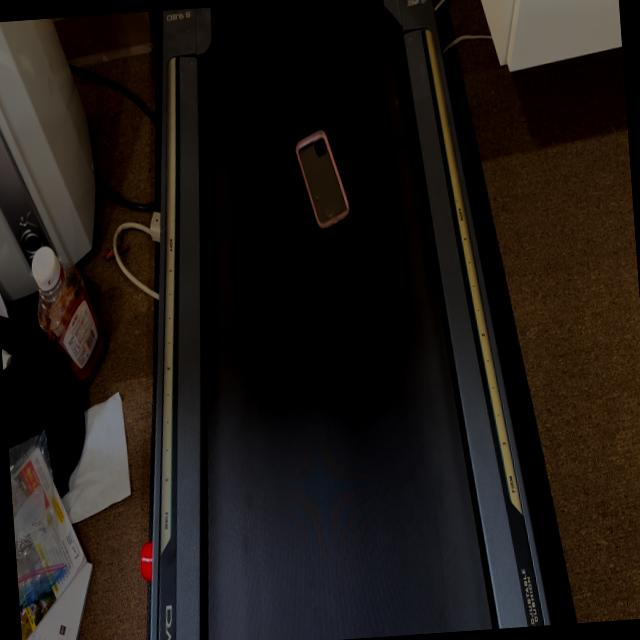Trash: (293, 128, 350, 232)
